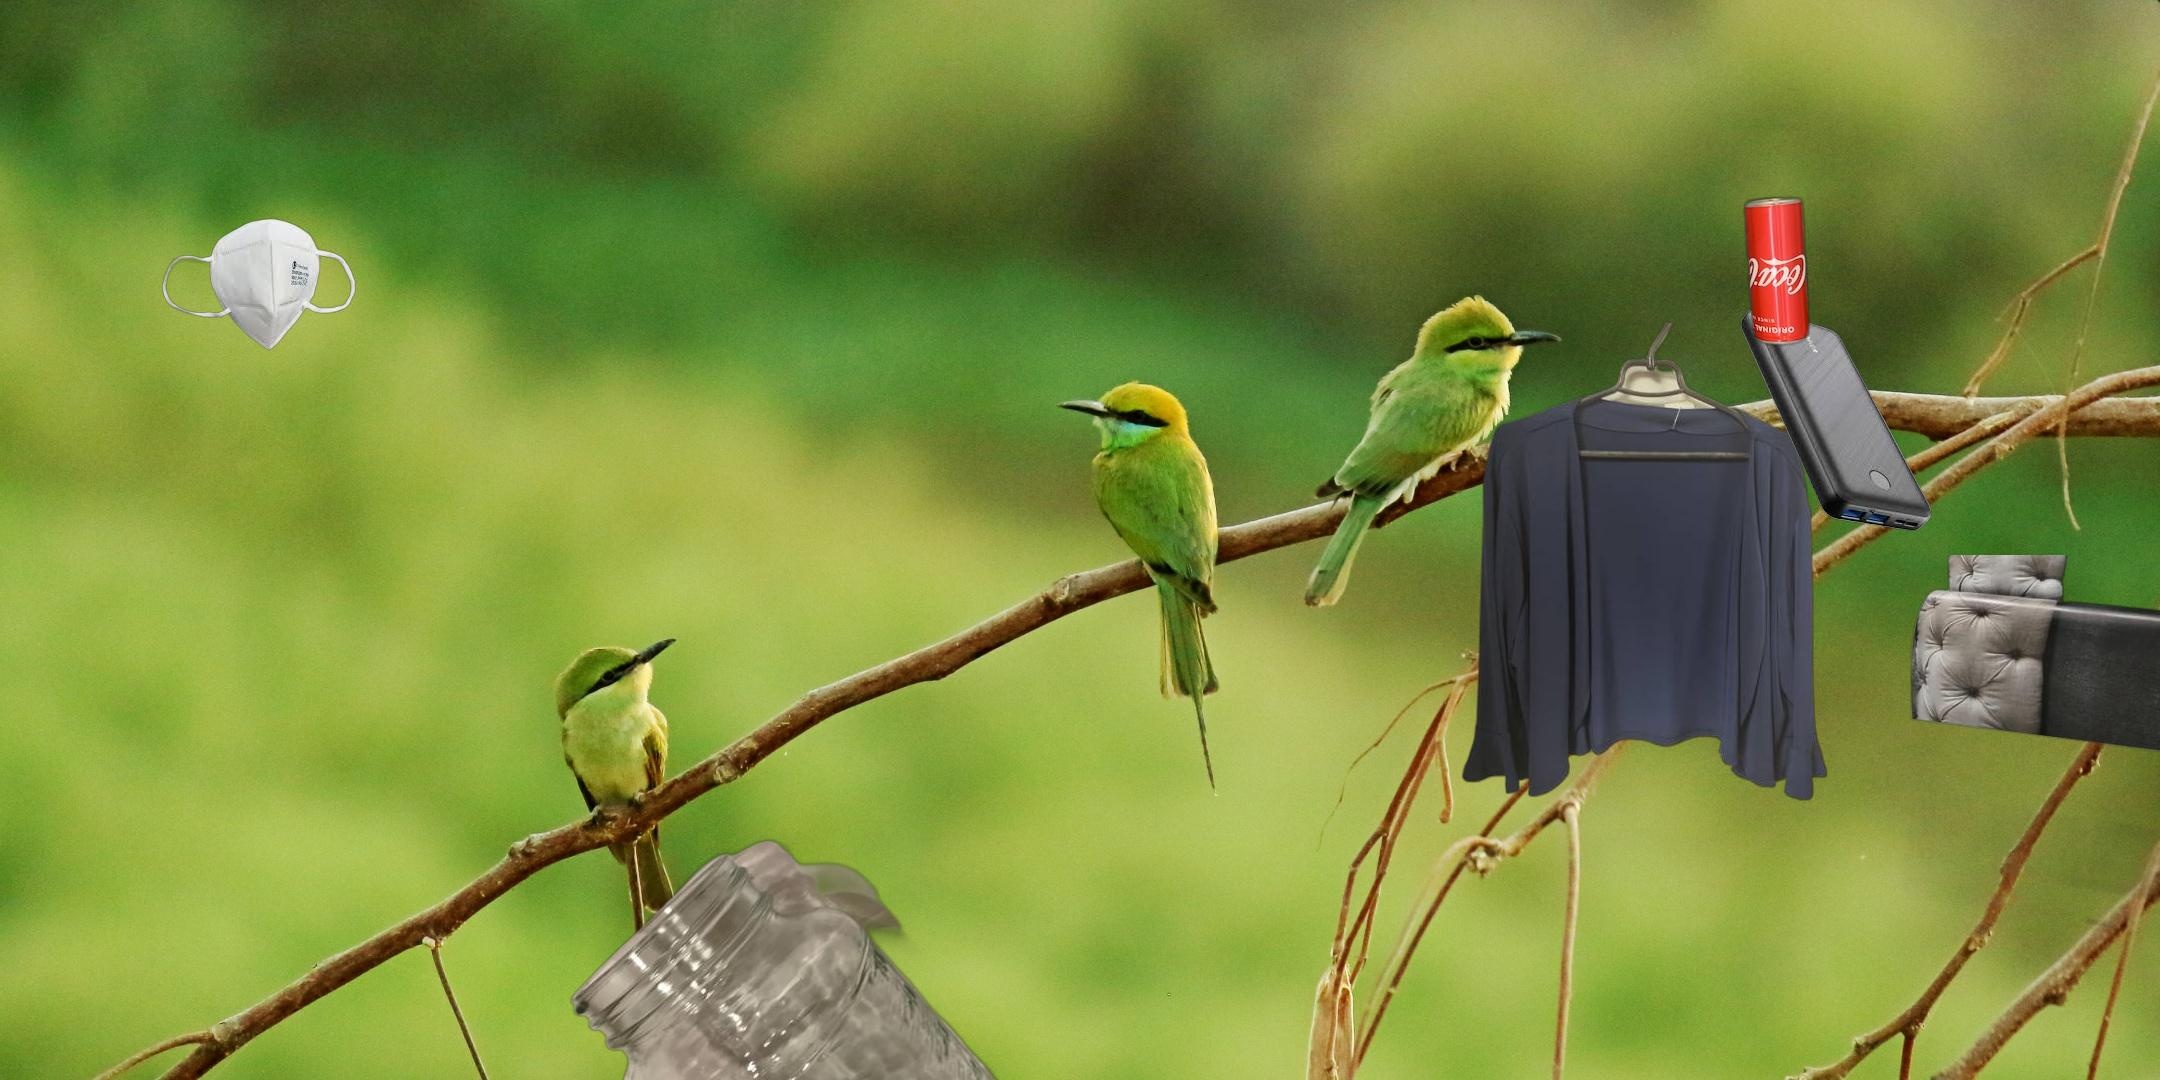battery: (1738, 306, 1948, 530)
clothes: (1459, 322, 1831, 804)
glass: (566, 835, 1011, 1080)
metal-cans: (1740, 191, 1814, 353)
paper: (1893, 555, 2160, 939)
trash: (158, 216, 358, 353)
